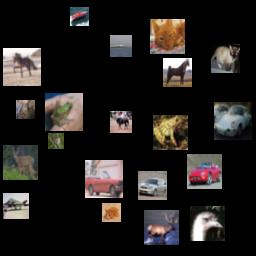airplane: (3, 193, 29, 219)
automobile: (214, 102, 252, 140), (85, 160, 123, 198), (187, 154, 222, 189), (138, 171, 167, 200)
bird: (190, 206, 225, 241), (48, 133, 64, 149)
cat: (150, 19, 185, 54), (211, 44, 240, 73), (16, 100, 35, 119), (102, 203, 121, 222)
deer: (144, 210, 179, 245), (3, 145, 38, 180)
frog: (45, 93, 83, 131), (153, 115, 188, 150)
ship: (110, 35, 132, 57), (70, 7, 89, 26)
